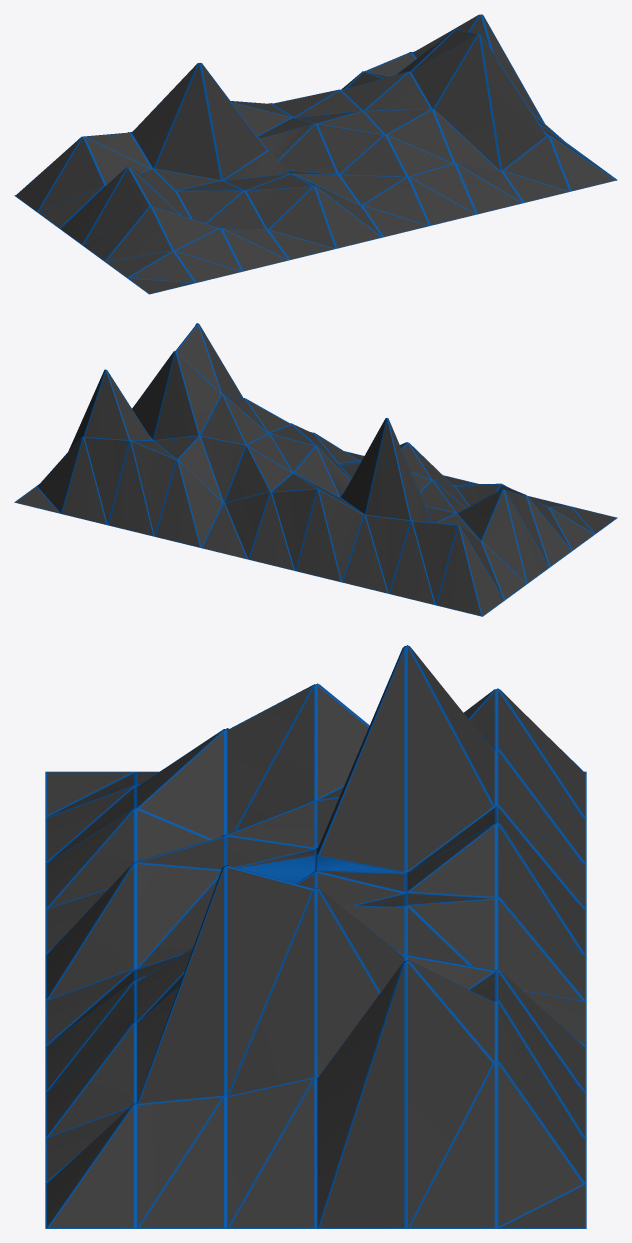
File: mountain5.fbx
3 views of the same model, one above another, from view 1: azimuth 30°, elevation 25°; view 2: azimuth 150°, elevation 25°; view 3: azimuth 270°, elevation 25° (orthographic). The views are drawn at different scales.
Visible parts, largest first — view 1: pPlane1; view 2: pPlane1; view 3: pPlane1.
Boxes of the visible parts, x1,y1,x2,y2 form: pPlane1: (14, 14, 617, 294); pPlane1: (14, 323, 617, 616); pPlane1: (45, 645, 586, 1228).
Size of the model in its own units: 100 by 27.6 by 50.
